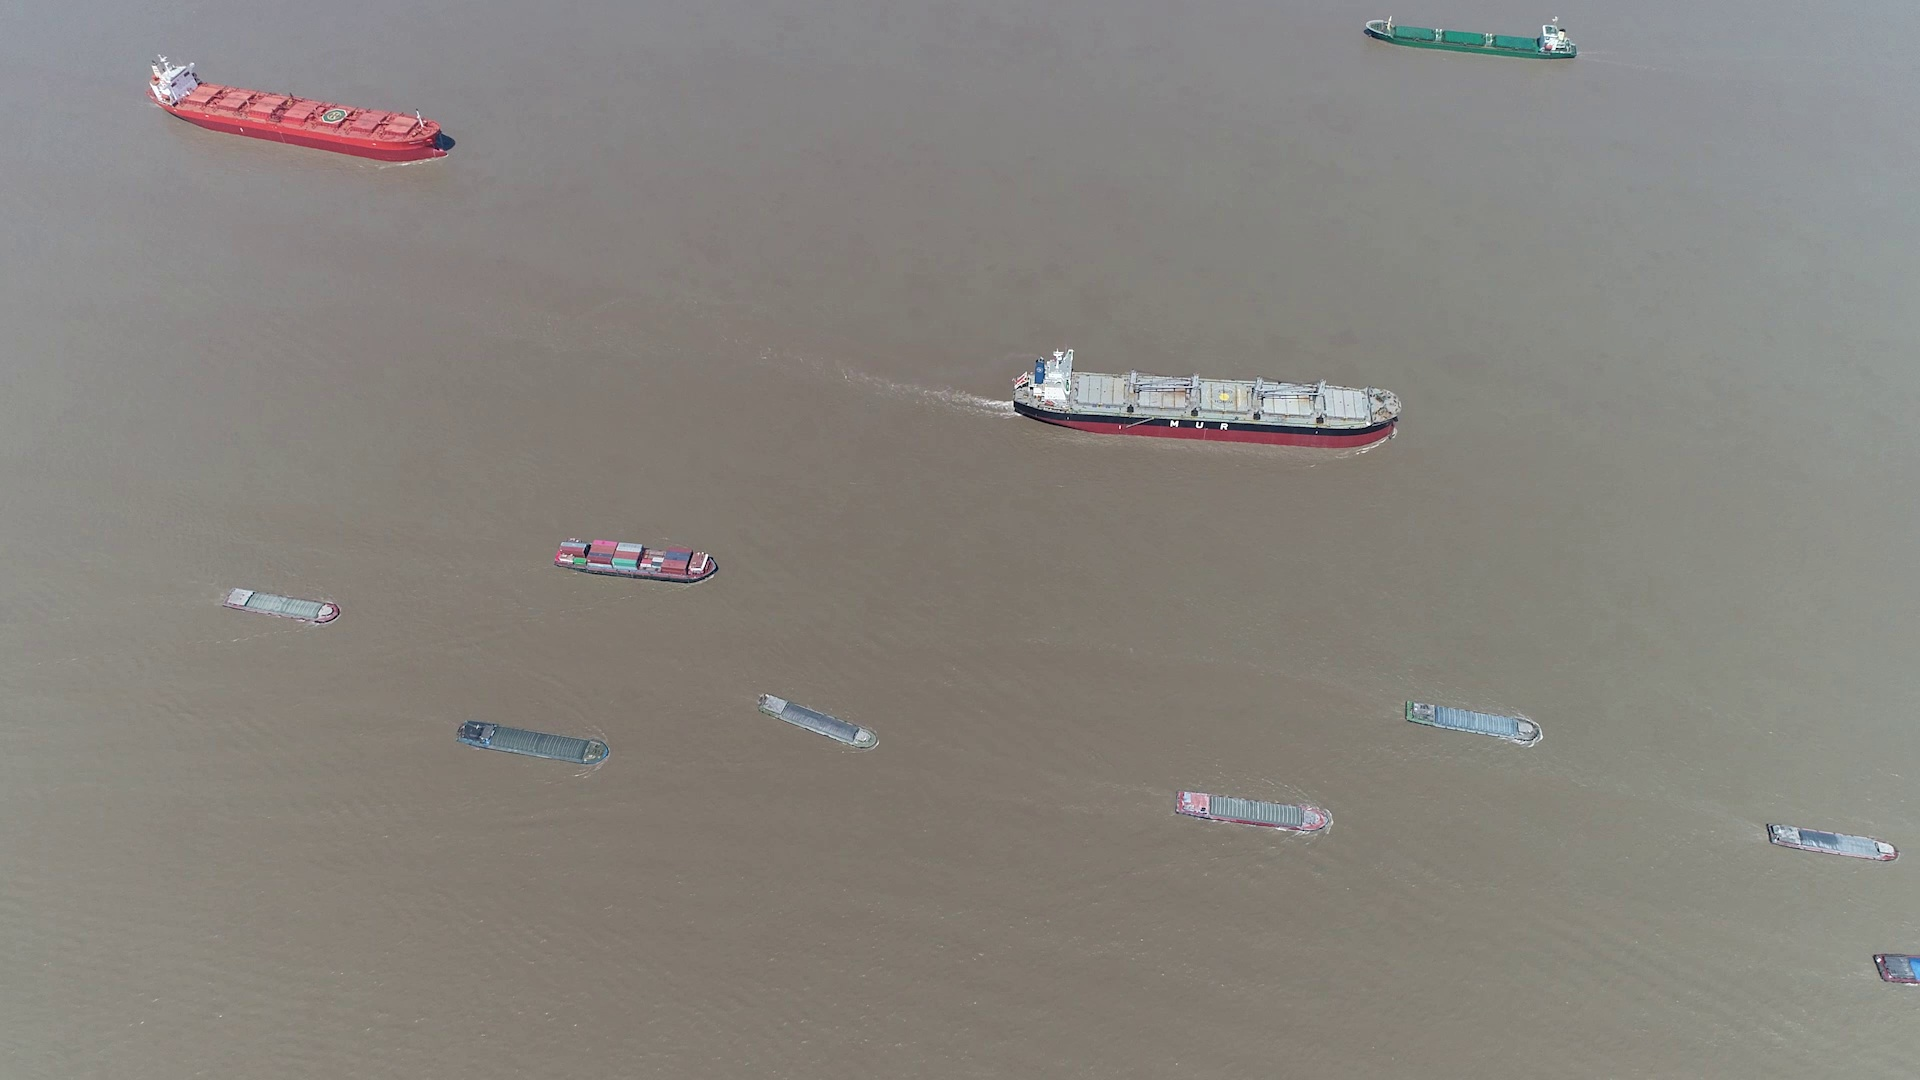ship: (1011, 352, 1398, 447), (152, 51, 450, 160), (1362, 18, 1575, 61), (554, 537, 717, 582), (462, 720, 611, 767), (1174, 793, 1333, 835), (762, 694, 881, 750), (1404, 700, 1542, 742), (1764, 824, 1898, 864), (222, 585, 338, 624), (1873, 953, 1917, 986)
